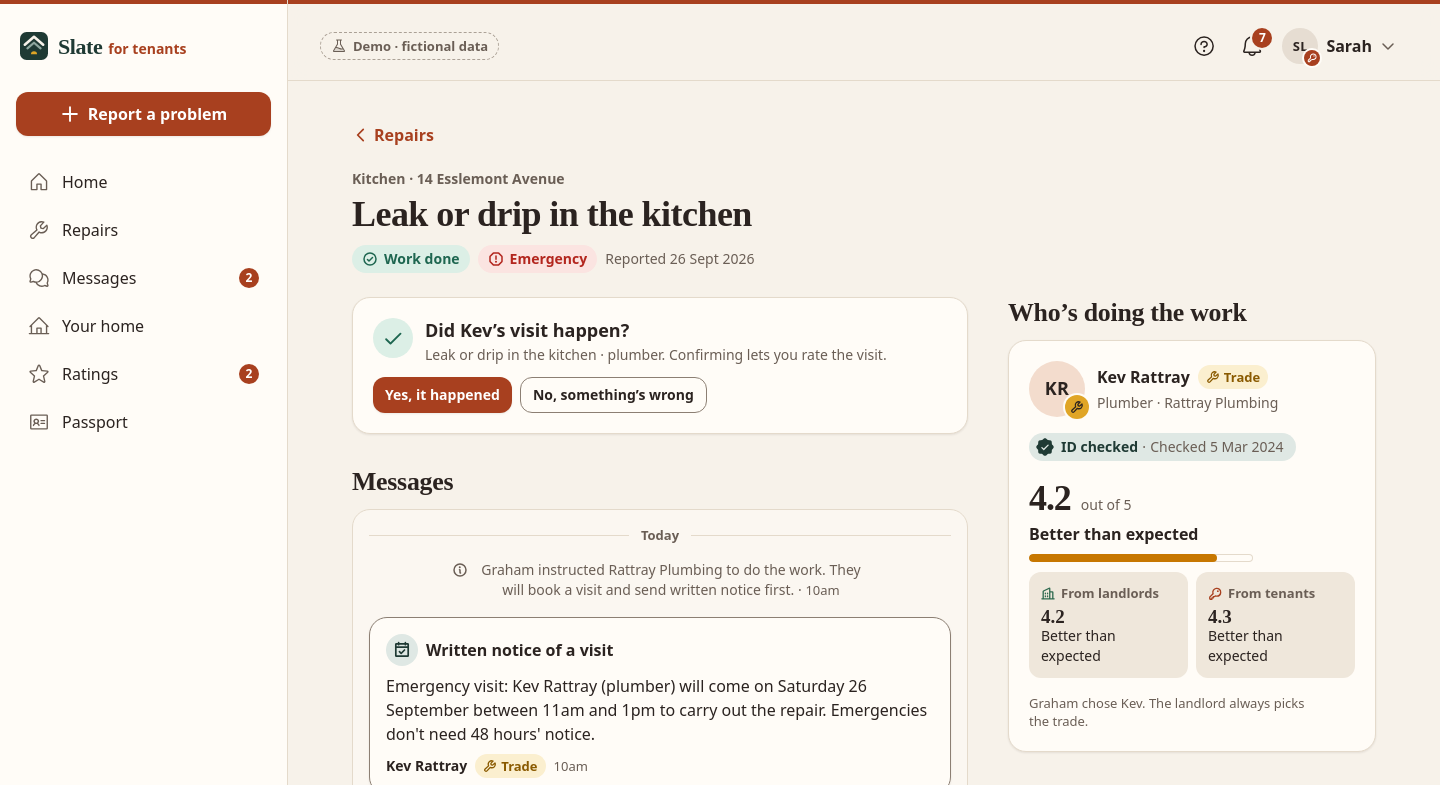
Test case: a repair’s page › lets the tenant confirm the visit happened, which opens their rating of the trade
The image size is (1440, 785).
expect the heading "Did Kev’s visit happen?" is shown: met, box [425, 318, 629, 342]
Click the button "Yes, it happened" at x=442, y=395, box [373, 377, 512, 413]
(page scrolled)
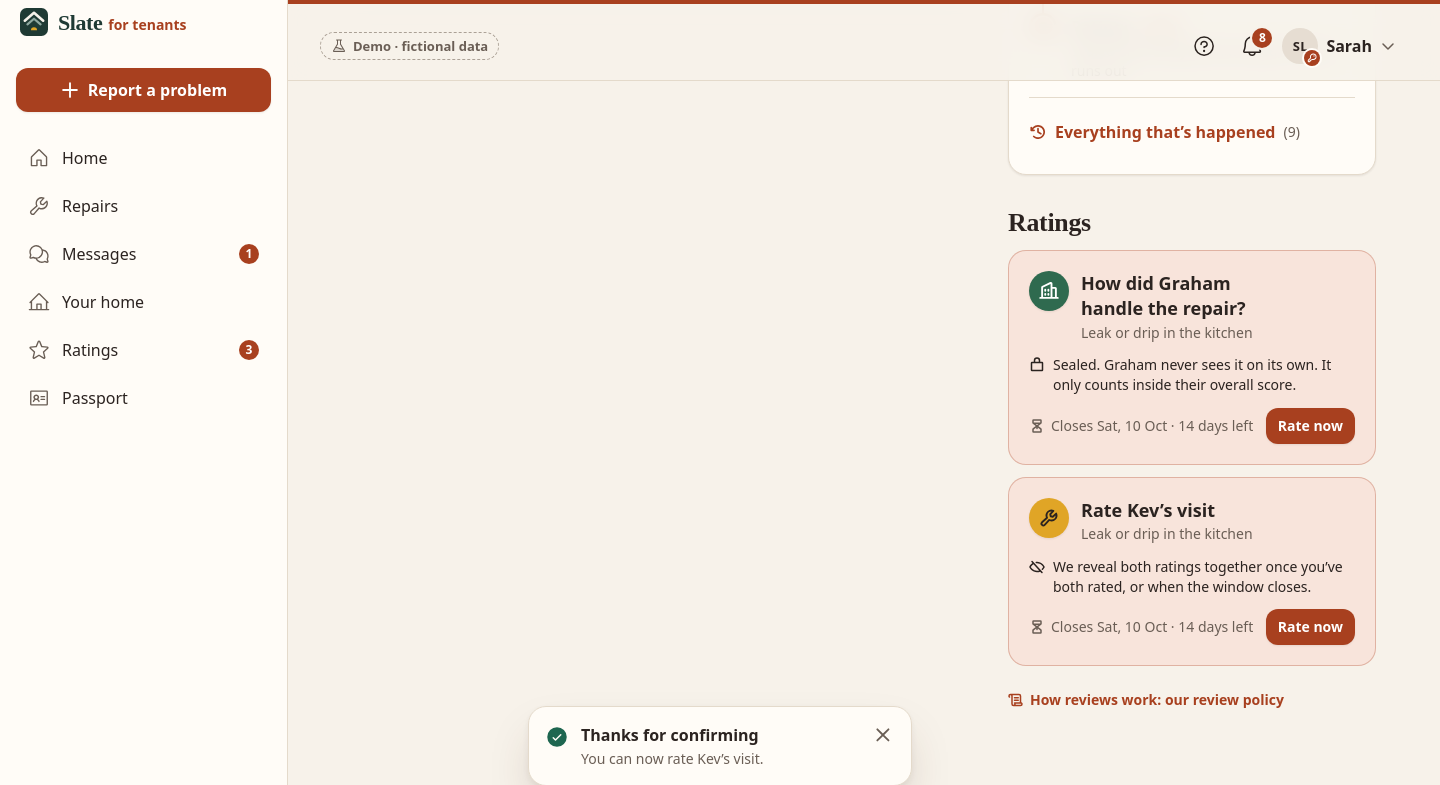
expect the heading "Rate Kev’s visit" is shown: met, box [1081, 498, 1215, 522]
